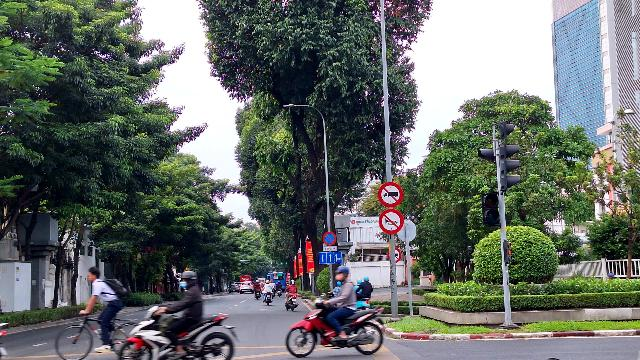cam-bop-coi: (378, 208, 404, 234)
cam-do-xe: (322, 231, 337, 245)
